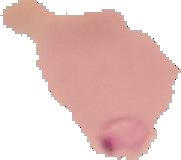parasitized: (93, 107, 155, 160)
